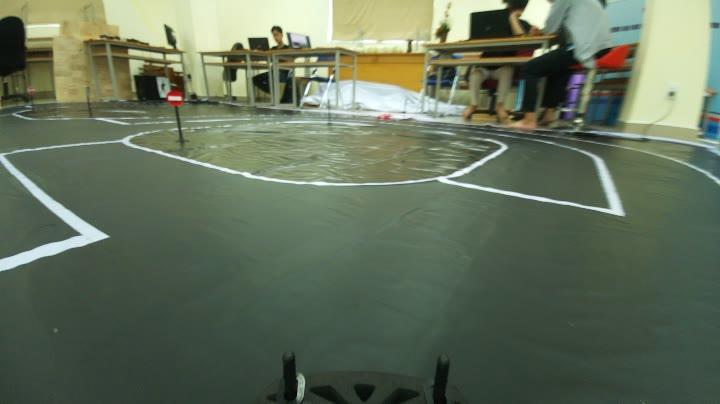no_entry: (159, 88, 189, 110)
